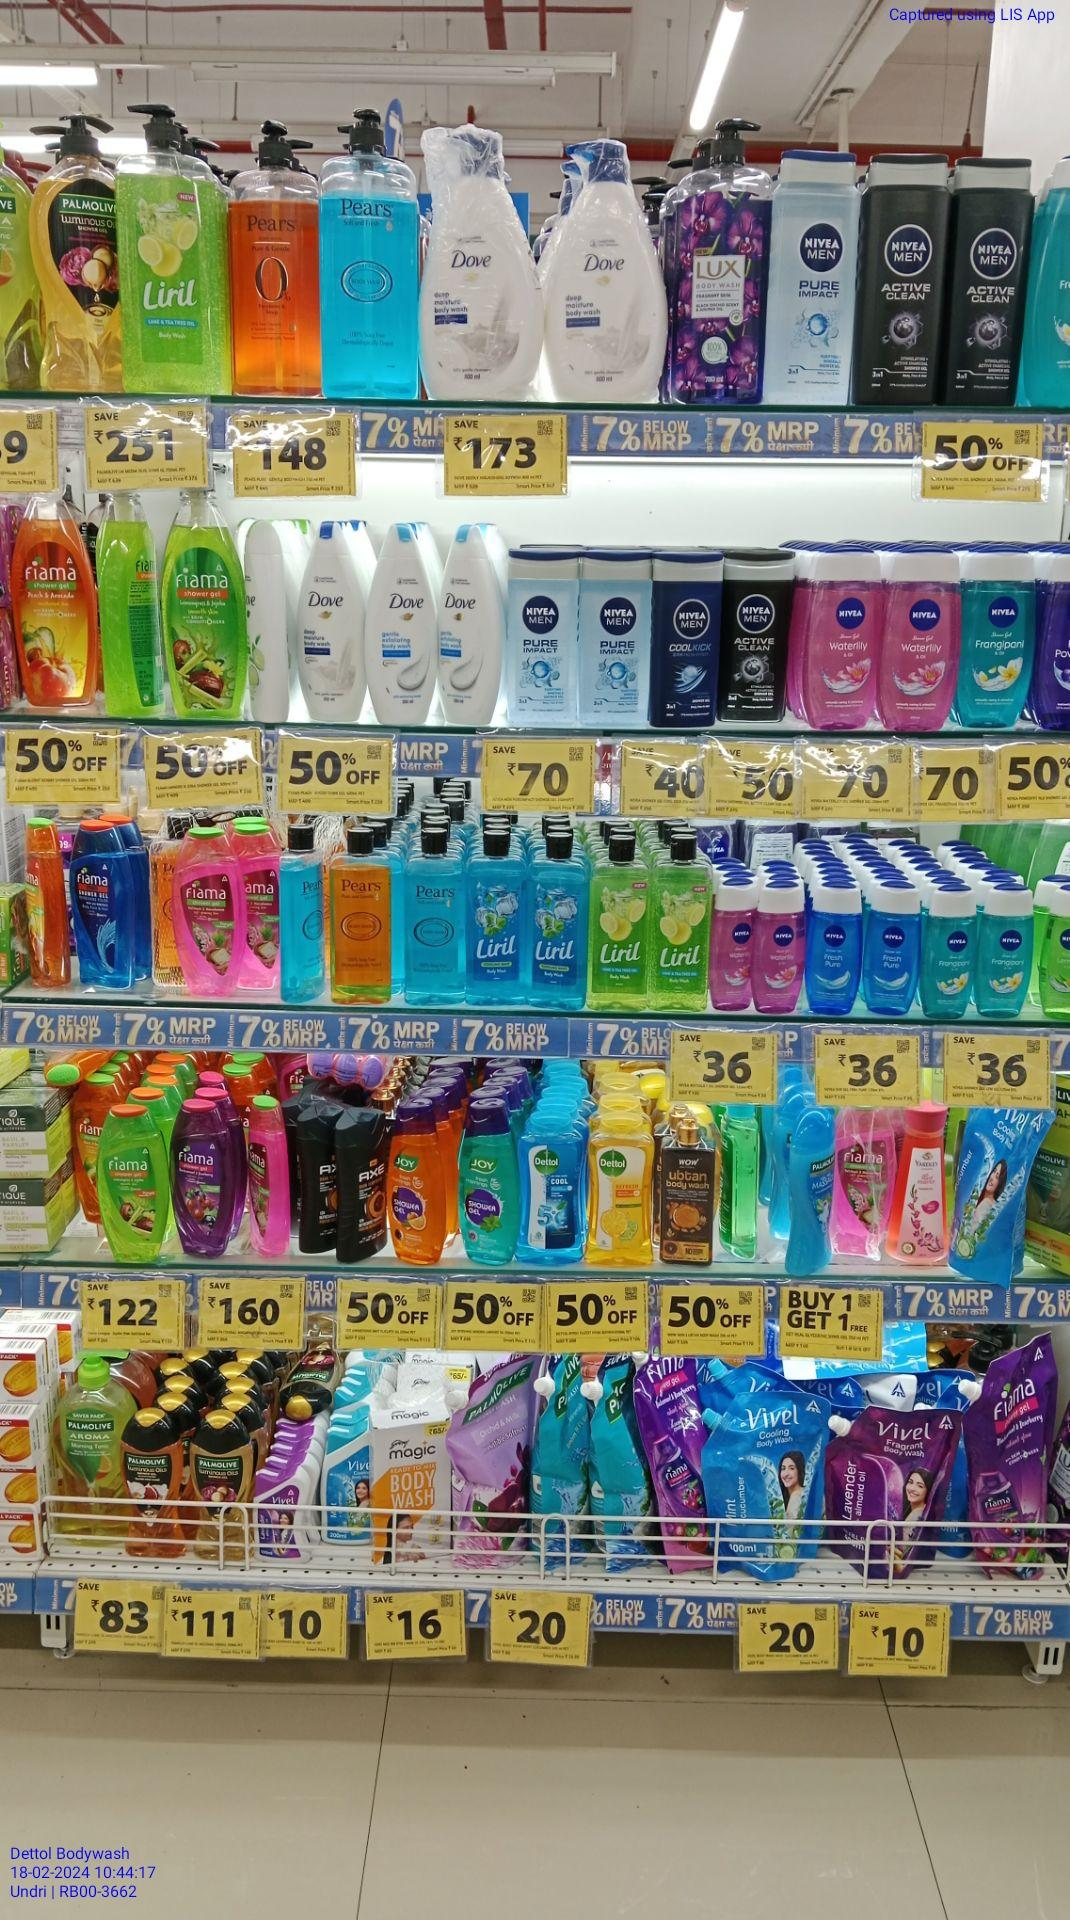Dettol_Bodywash_Cool: (528, 1106, 588, 1265)
Dettol_Bodywash_Refresh: (593, 1108, 652, 1270)
Dove_Deep_Moisture_Body_Wash_250ML: (300, 514, 368, 727)
Dove_Gentle_Exfoliating_Body_Wash_250ML: (434, 527, 499, 725), (370, 530, 431, 723)
Fiama_Shower_Gel_Lemongrass_and_Jojoba_250ML: (99, 1107, 170, 1264)
Fiama_Shower_Gel_Patchouli_and_Macadamia_250ML: (171, 822, 245, 1007), (829, 1100, 887, 1257)
Joy_Shower_Gel_Mandarin_and_Lemongrass_250ML: (389, 1107, 441, 1264)
Joy_Shower_Gel_Mint_and_Eucalyptus_250ML: (459, 1096, 524, 1265)
Liril_Cooling_Mint_Body_Wash_250ML: (469, 833, 527, 1007), (528, 835, 585, 1007)
Liril_Lime_and_Tea_Tree_Oil_Body_Wash_250ML: (589, 830, 647, 1013), (652, 835, 708, 1007)
Nivea_Shower_Gel_Frangipani_and_Oil_250ML: (958, 546, 1030, 729)
Nivea_Shower_Gel_Waterlily_and_Oil_250ML: (879, 547, 957, 734), (806, 547, 874, 729)
Palmolive_Luminous_Oils_Invigorating_Macadamia_Oil_With_Peony_250ML: (192, 1410, 258, 1566)
Palmolive_Luminous_Oils_With_White_Orchid_Shower_Gel_250ML: (120, 1405, 184, 1559)
Pears_Pure_Glycerin_and_Mint_Extracts_Body_Wash_250ML: (403, 824, 468, 1004), (278, 824, 324, 1002)
